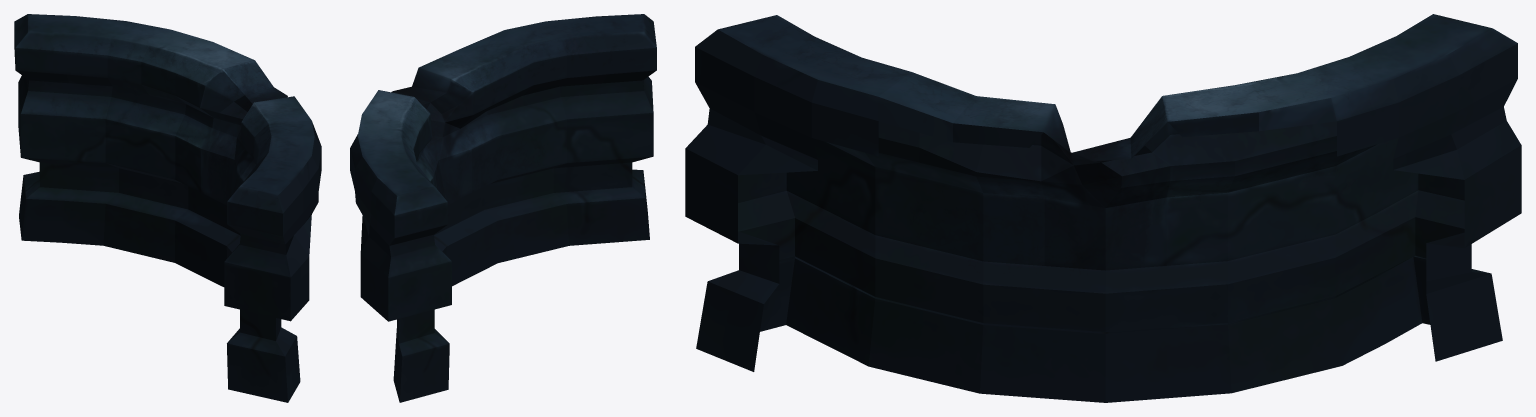
File: B3 - Background.fbx
3 views of the same model, side by side, from view 1: azimuth 30°, elevation 25°; view 2: azimuth 150°, elevation 25°; view 3: azimuth 270°, elevation 25° (orthographic). The views are drawn at different scales.
Visible parts, largest first — view 1: C_Backdrop1; view 2: C_Backdrop1; view 3: C_Backdrop1.
Boxes of the visible parts, x1=… form: C_Backdrop1: x1=14, y1=14, x2=321, y2=402; C_Backdrop1: x1=350, y1=14, x2=656, y2=402; C_Backdrop1: x1=685, y1=14, x2=1521, y2=402.
Size of the model in its own units: 171 by 202 by 484.
Materials: 1 (1 with a texture image).
